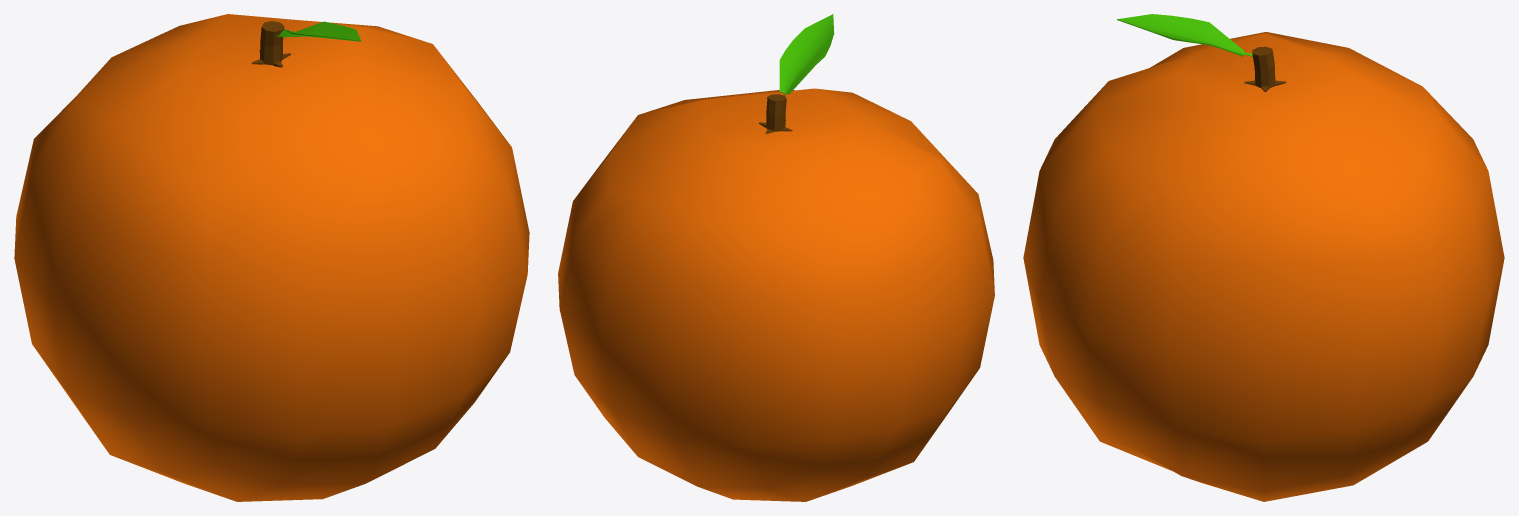
The model's file is Grapefruit.fbx.
The picture shows the model from 3 angles, left to right: view 1: azimuth 30°, elevation 25°; view 2: azimuth 150°, elevation 25°; view 3: azimuth 270°, elevation 25°; orthographic projection. The views are drawn at different scales.
Parts seen in each view (by area): view 1: Grapefruit; view 2: Grapefruit; view 3: Grapefruit.
Part boxes in pixels (left/top/right/bottom): Grapefruit: left=14, top=14, right=529, bottom=501; Grapefruit: left=558, top=14, right=994, bottom=501; Grapefruit: left=1023, top=14, right=1504, bottom=501.
Bounding box in the file's own units: 12.79 × 13.55 × 12.79.
